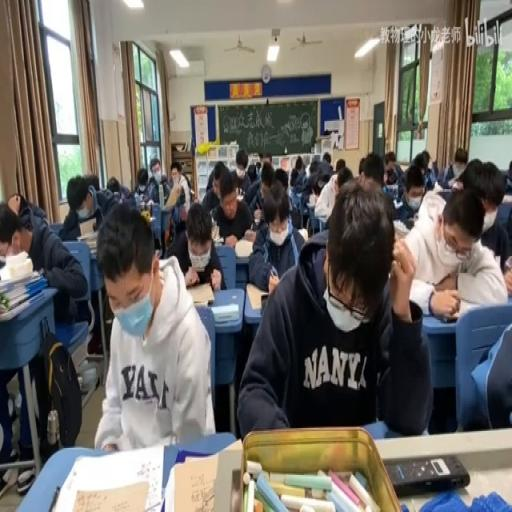calculator: (50, 442, 165, 511), (169, 454, 221, 510), (0, 289, 45, 320), (0, 266, 43, 292), (454, 296, 485, 317), (188, 282, 214, 304), (210, 302, 238, 322), (75, 228, 98, 250), (233, 238, 254, 258), (392, 218, 408, 234), (243, 228, 256, 240), (296, 226, 307, 240), (138, 215, 155, 223), (211, 234, 224, 244), (384, 184, 397, 194), (392, 196, 402, 208), (308, 193, 317, 205), (235, 188, 244, 200), (505, 193, 512, 202)
paper: (237, 179, 416, 441), (94, 205, 212, 452), (0, 192, 86, 489), (394, 186, 506, 317), (467, 314, 512, 430), (205, 165, 253, 245), (60, 173, 110, 242), (311, 158, 354, 225), (8, 191, 48, 236), (164, 156, 190, 219), (440, 148, 469, 190), (382, 149, 404, 189), (294, 186, 308, 229), (134, 166, 150, 198), (290, 155, 306, 186), (258, 160, 274, 190), (499, 158, 512, 192), (204, 168, 218, 192), (501, 258, 510, 294), (117, 193, 137, 209), (274, 168, 288, 189), (246, 160, 258, 184), (418, 150, 430, 174), (234, 155, 246, 178), (106, 176, 119, 196), (427, 180, 443, 194), (149, 158, 160, 176), (334, 158, 345, 173), (308, 160, 318, 174), (314, 180, 324, 194), (431, 159, 438, 178), (354, 170, 363, 184), (358, 158, 366, 173), (262, 154, 271, 164), (322, 151, 330, 162), (255, 160, 261, 174)
person: (386, 452, 470, 496), (228, 466, 241, 510), (260, 293, 269, 313), (442, 312, 458, 322), (206, 298, 213, 306)
